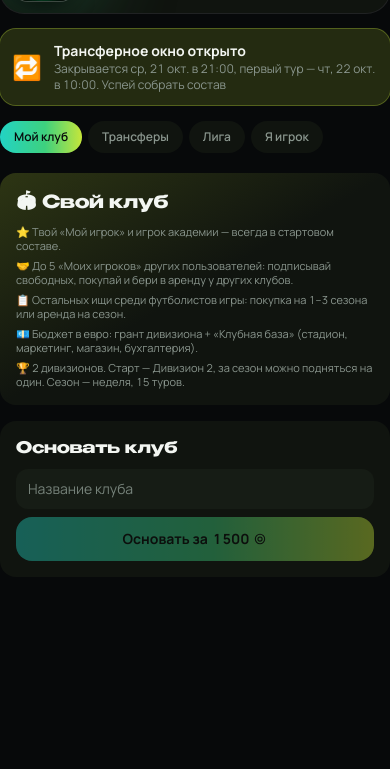
Test case: ManagerPage › founds a club for the configured price
This screenshot has width=390, height=769.
expect the text "Трансферное окно открыто" is shown: met, box [54,41,246,60]
expect the button "Основать за 1 500" is disabled: met, box [16,517,374,561]
Type "Ночные Совы" into the field with placeholder "Название клуба" at (195, 489), box [16,469,374,509]
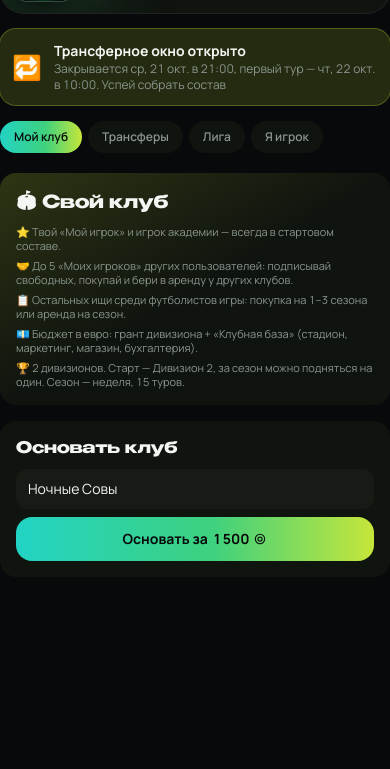
Click the button "Основать за 1 500" at (195, 539), box [16,517,374,561]
(page scrolled)
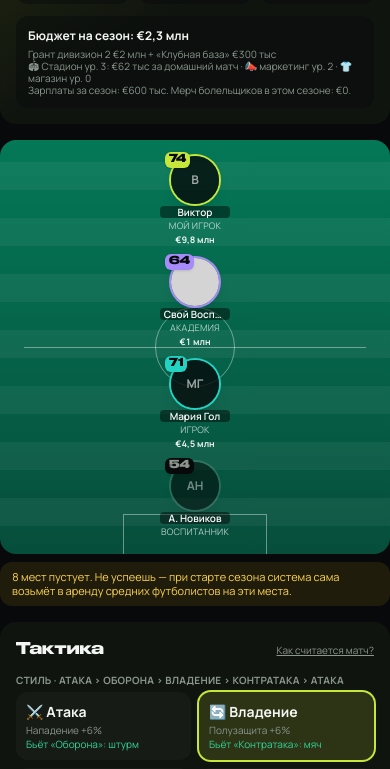
expect the element with test id "pitch" is shown: met, box [0,140,389,554]
